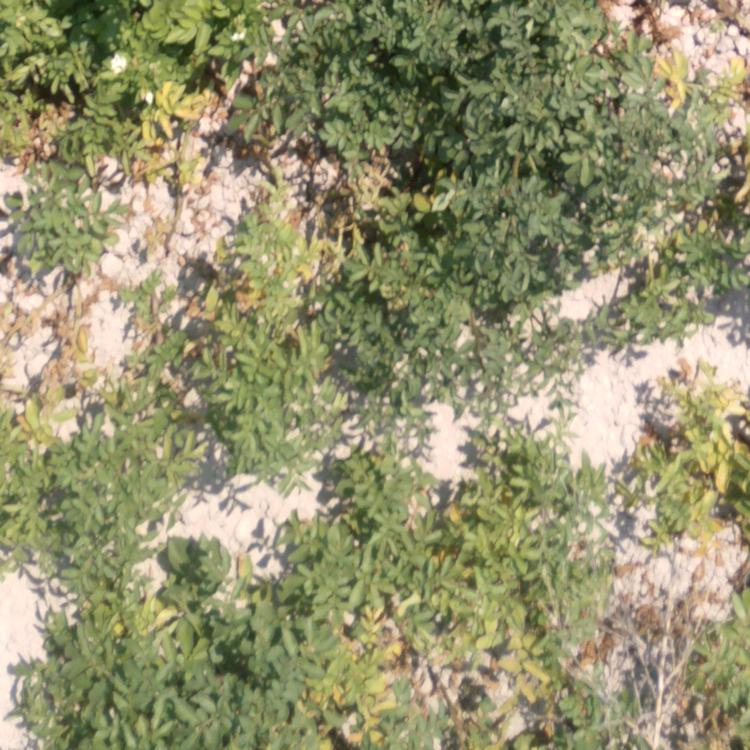healthy: (47, 549, 319, 750), (253, 1, 634, 130), (429, 139, 622, 331), (1, 440, 162, 532), (9, 178, 104, 281)
stressed: (338, 463, 600, 745), (175, 165, 406, 424), (1, 1, 250, 160), (641, 20, 742, 340), (628, 380, 750, 546), (32, 328, 146, 422), (675, 629, 750, 750)
